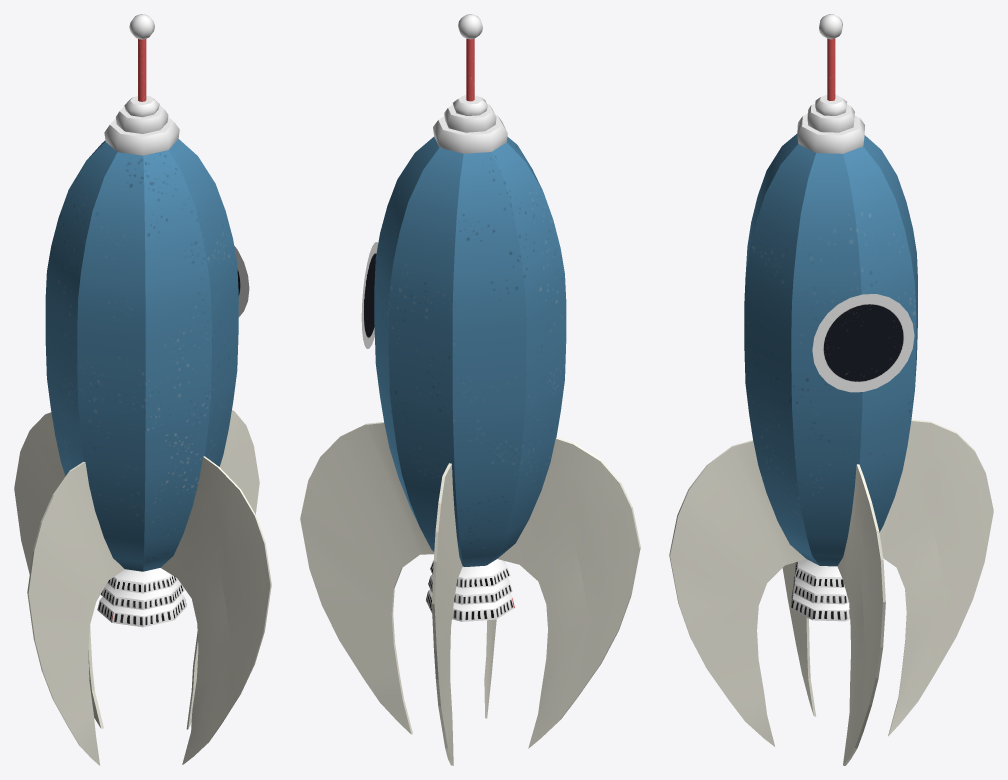
The picture shows the model from 3 angles, left to right: view 1: azimuth 30°, elevation 25°; view 2: azimuth 150°, elevation 25°; view 3: azimuth 270°, elevation 25°; orthographic projection.
Visible parts, largest first — view 1: rocketship06:pCylinder2; view 2: rocketship06:pCylinder2; view 3: rocketship06:pCylinder2.
Part boxes in pixels (left/top/right/bottom): rocketship06:pCylinder2: left=14, top=14, right=271, bottom=765; rocketship06:pCylinder2: left=300, top=14, right=640, bottom=765; rocketship06:pCylinder2: left=669, top=14, right=993, bottom=765.
Size of the model in its own units: 0.976 by 2.38 by 0.9657.
6 materials, 2 textured.
